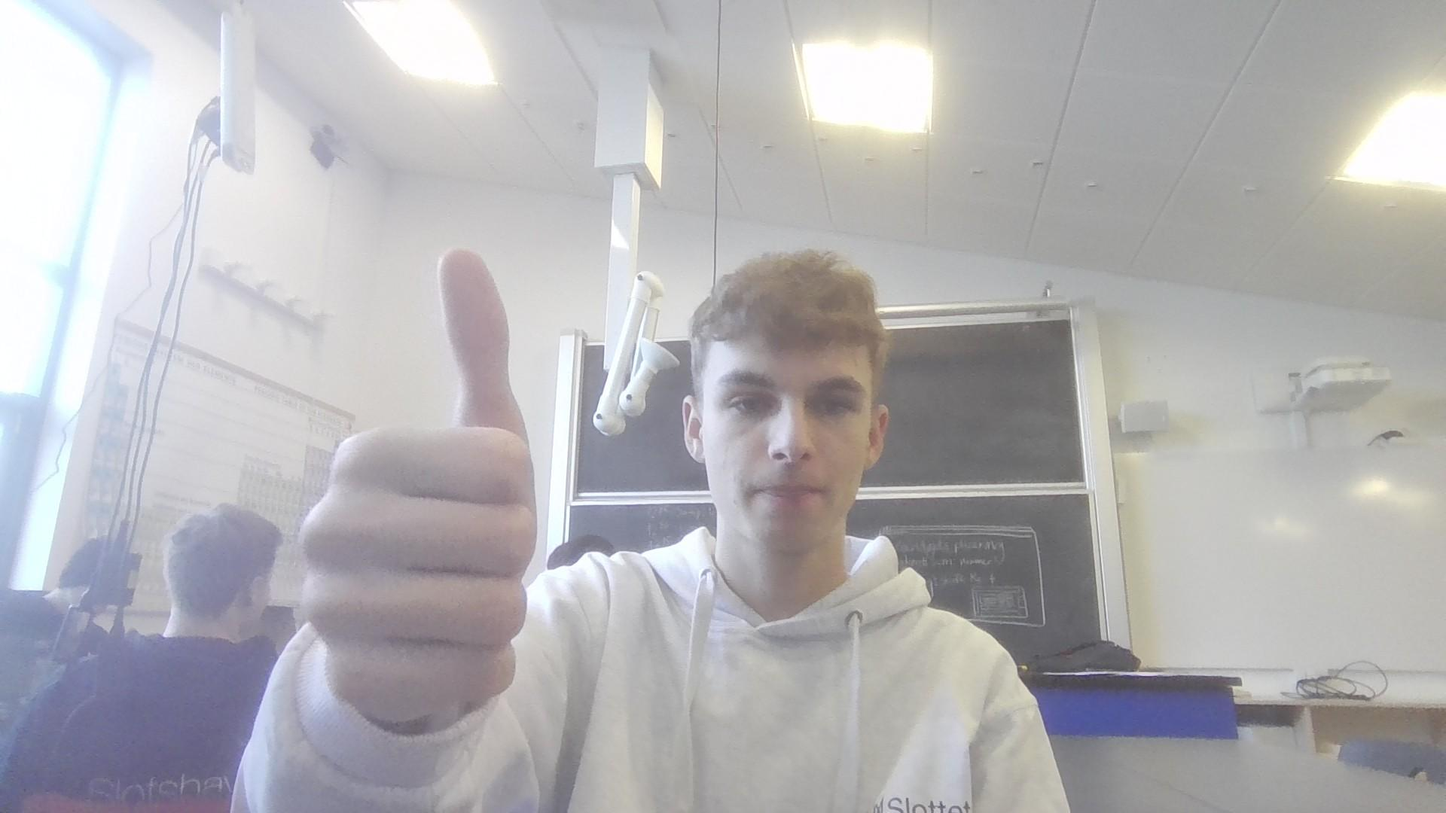thumbs up: (297, 240, 531, 728)
